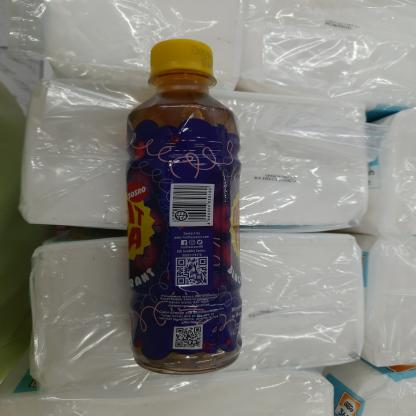bottle: (121, 36, 248, 378)
